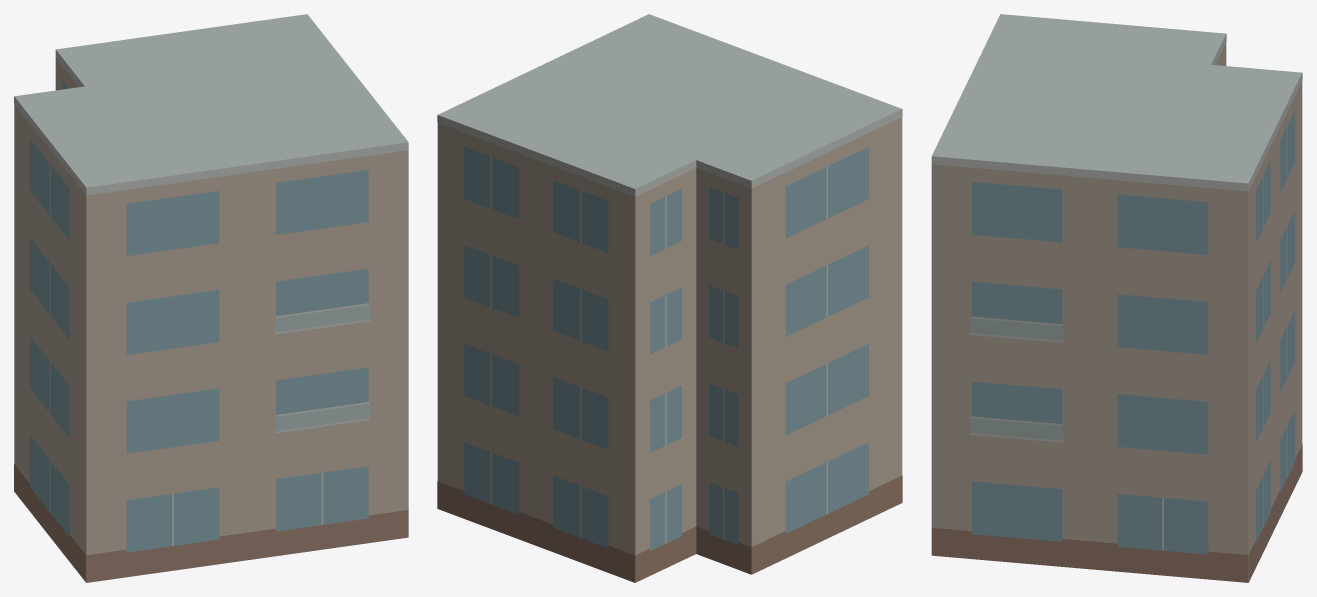
Rendered from residential-5f3bbde4-9d49-4ddf-a01c-2bed75b373ae.glb.
3 views of the same model, side by side, from view 1: azimuth 30°, elevation 25°; view 2: azimuth 150°, elevation 25°; view 3: azimuth 270°, elevation 25° (orthographic).
Visible parts, largest first — view 1: residential-5f3bbde4-9d49-4ddf-a01c-2bed75b373ae.tmp; view 2: residential-5f3bbde4-9d49-4ddf-a01c-2bed75b373ae.tmp; view 3: residential-5f3bbde4-9d49-4ddf-a01c-2bed75b373ae.tmp.
Part boxes in pixels (bbox=[...]): residential-5f3bbde4-9d49-4ddf-a01c-2bed75b373ae.tmp: bbox=[14, 14, 408, 582]; residential-5f3bbde4-9d49-4ddf-a01c-2bed75b373ae.tmp: bbox=[437, 14, 902, 582]; residential-5f3bbde4-9d49-4ddf-a01c-2bed75b373ae.tmp: bbox=[931, 14, 1302, 582].
Bounding box in the file's own units: 11.12 × 12.2 × 10.28.
